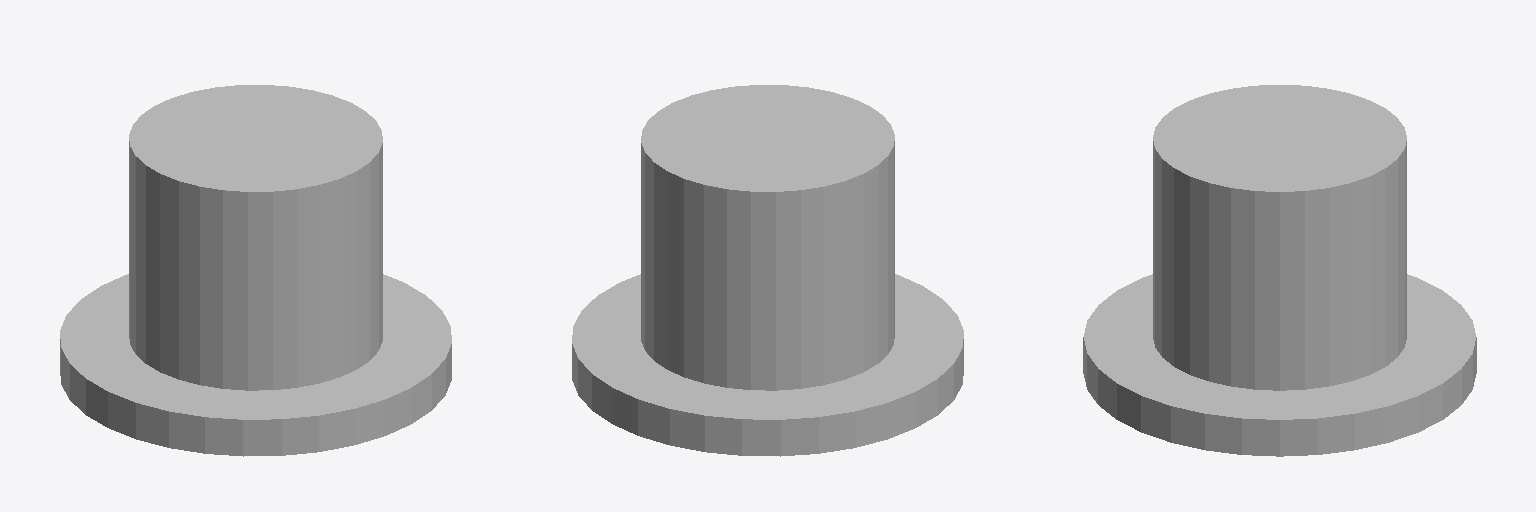
File: hat.obj
The picture shows the model from 3 angles: view 1: azimuth 30°, elevation 25°; view 2: azimuth 150°, elevation 25°; view 3: azimuth 270°, elevation 25°; orthographic projection.
Visible parts, largest first — view 1: Cylinder.001; view 2: Cylinder.001; view 3: Cylinder.001.
Part boxes in pixels (x1,y1,x2,y2): Cylinder.001: (60, 85, 451, 456); Cylinder.001: (572, 85, 963, 456); Cylinder.001: (1083, 85, 1476, 456).
Bounding box in the file's own units: 1.26 × 0.8341 × 1.26.